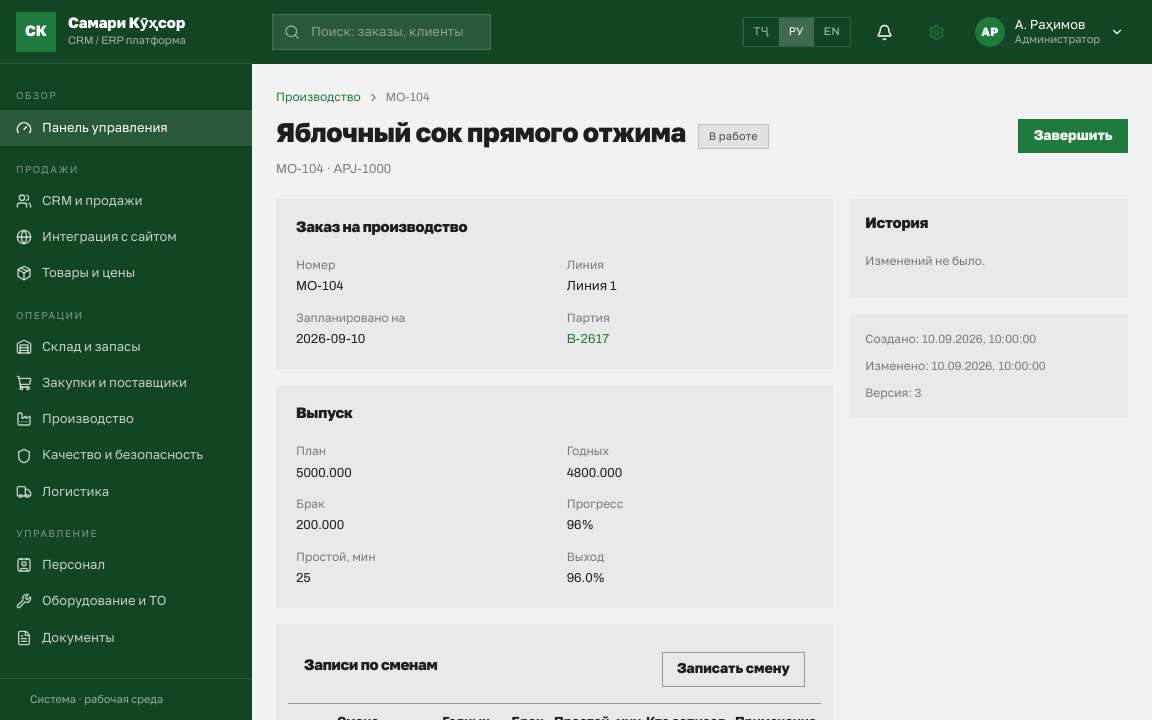
Test: Производство — order detail › completes an order and surfaces a second attempt being refused
This screenshot has width=1152, height=720.
What coordinates should you click on to do the following:
click the button with test id "complete-order"
I would click on:
 (1073, 136)
Its box is [1018, 119, 1128, 153].
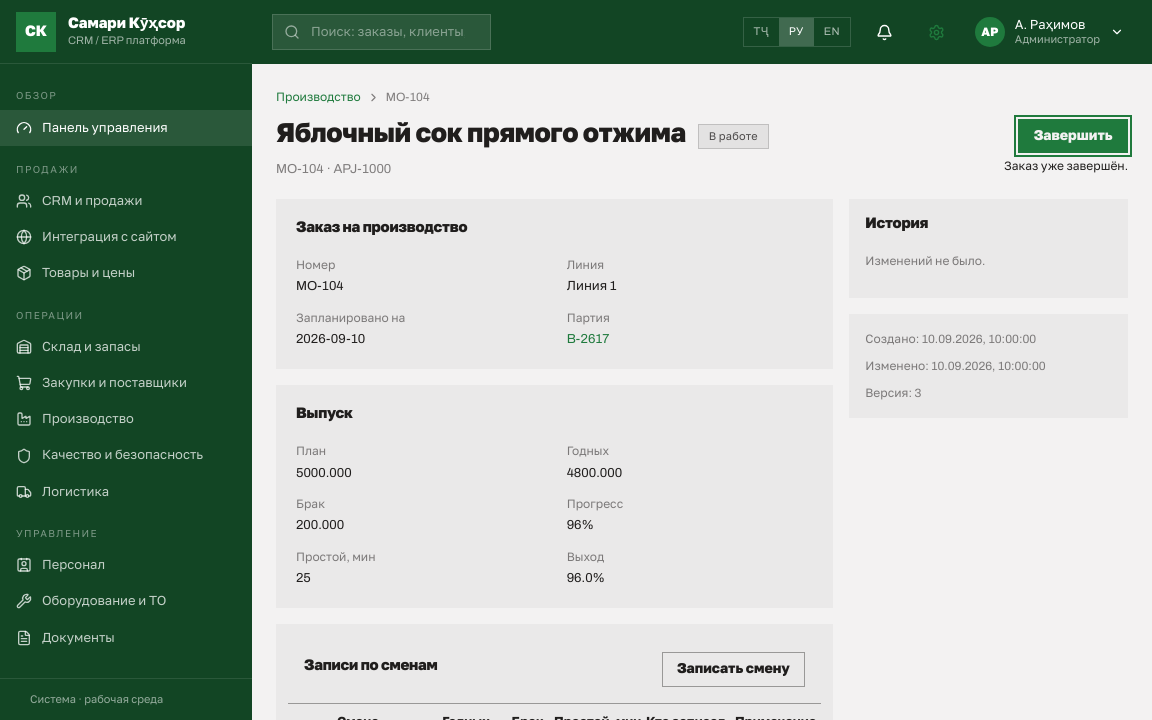
Expected: the message with test id "complete-error" reads "Заказ уже завершён.", [1004, 159, 1128, 173]
